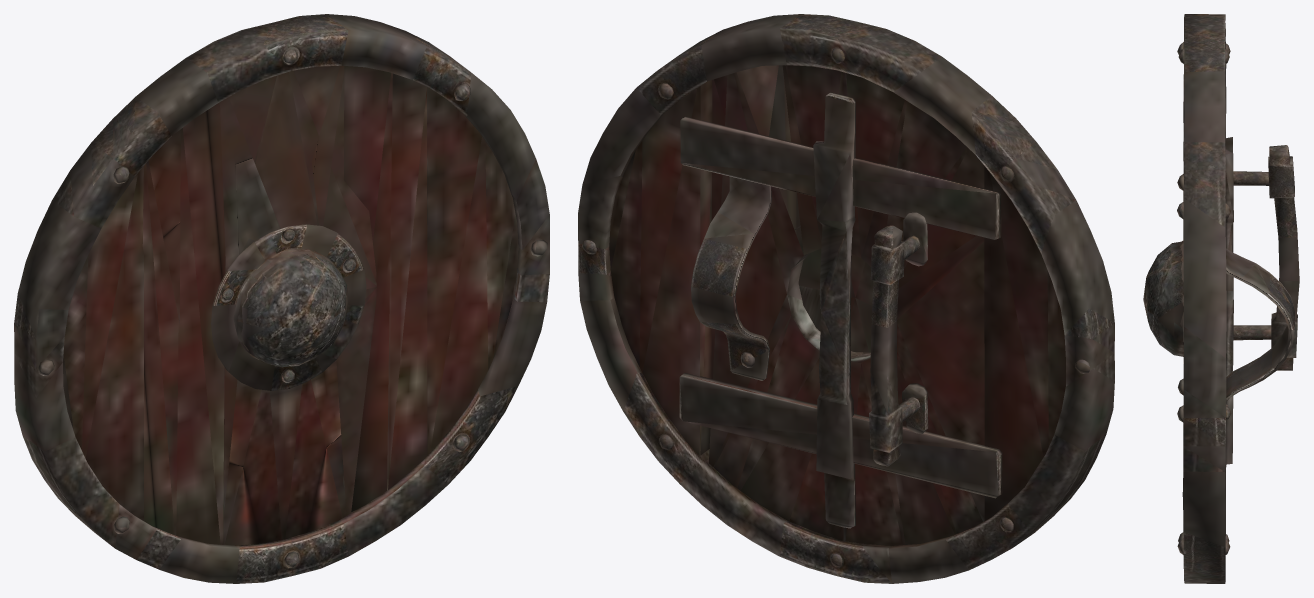
File: skeleton_shield_small_a.glb
3 renders of one model, left to right at view 1: azimuth 30°, elevation 25°; view 2: azimuth 150°, elevation 25°; view 3: azimuth 270°, elevation 25°, orthographic. The views are drawn at different scales.
Visible parts, largest first — view 1: skeleton_shield_small_a; view 2: skeleton_shield_small_a; view 3: skeleton_shield_small_a.
Part boxes in pixels (left/top/right/bottom): skeleton_shield_small_a: left=14, top=14, right=549, bottom=583; skeleton_shield_small_a: left=578, top=14, right=1114, bottom=583; skeleton_shield_small_a: left=1143, top=14, right=1299, bottom=583.
Bounding box in the file's own units: 0.8322 × 0.8322 × 0.2288.
1 material, 1 textured.
